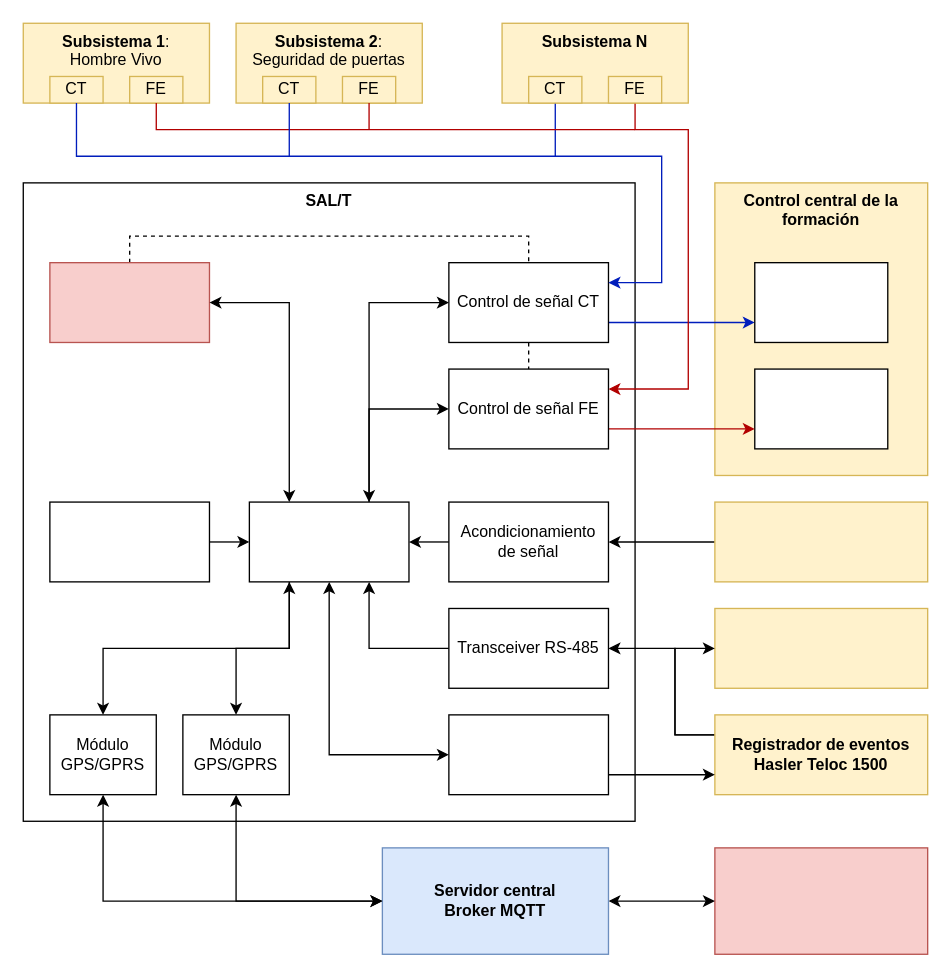
The diagram is 951 pixels wide and 978 high, and some of its shapes have lost their labels. Each missing label, with the centre of its shape:
Activación de corte de tracción: [820,301]
Activación de freno de emergencia: [820,408]
Controlador principal (Software): [328,541]
Generador de impulsos ópticos Hasler: [821,541]
Indicador de velocidad Hasler: [821,647]
Interfaz con el registrador de eventos: [528,754]
Interfaz humano-máquina: [129,301]
Medición de fuente de alimentación: [129,541]
Puesto central operativo: [821,900]
